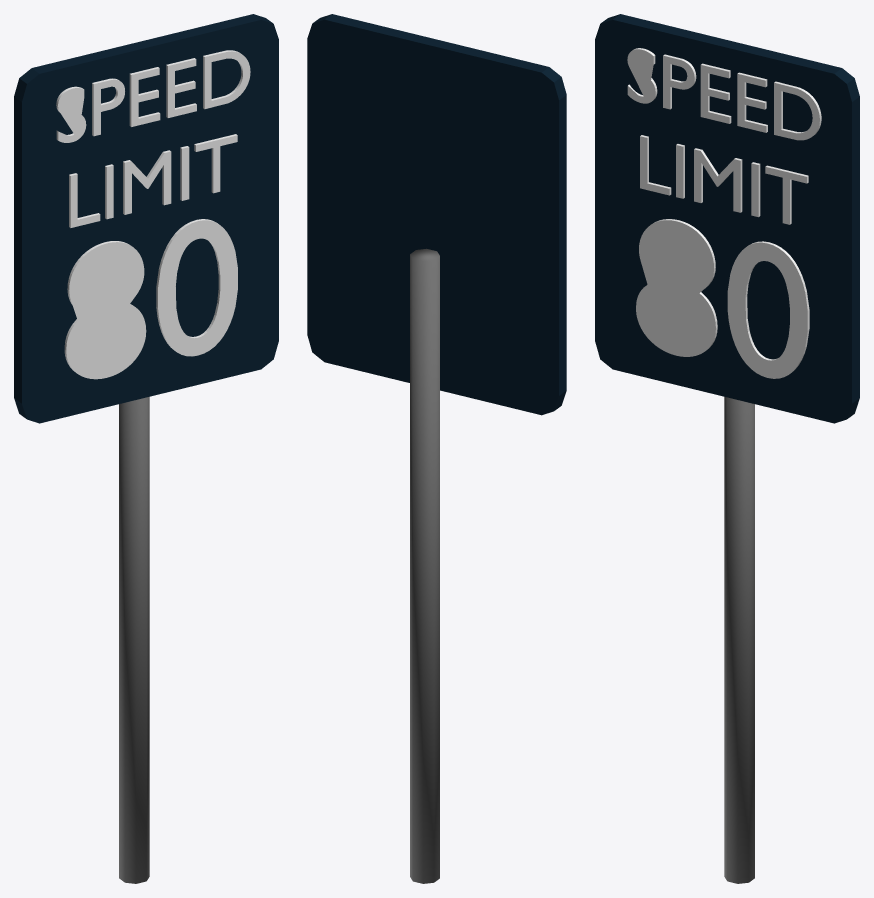
The model's file is Prop_StreetSign_Speed_80.fbx.
The picture shows the model from 3 angles, left to right: view 1: azimuth 30°, elevation 25°; view 2: azimuth 150°, elevation 25°; view 3: azimuth 330°, elevation 25°; orthographic projection. The views are drawn at different scales.
Parts seen in each view (by area): view 1: Prop_StreetSign_Speed_80; view 2: Prop_StreetSign_Speed_80; view 3: Prop_StreetSign_Speed_80.
Part boxes in pixels (x1=…): Prop_StreetSign_Speed_80: x1=14, y1=14, x2=278, y2=883; Prop_StreetSign_Speed_80: x1=307, y1=14, x2=566, y2=883; Prop_StreetSign_Speed_80: x1=595, y1=14, x2=859, y2=883.
Bounding box in the file's own units: 140 × 438 × 23.65.
